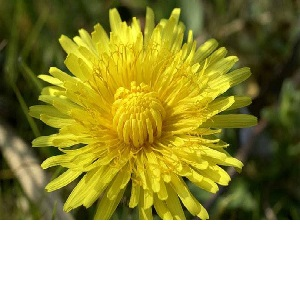dandelion: (43, 25, 233, 215)
